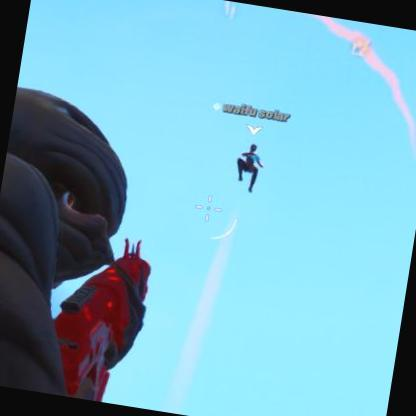person: (232, 148, 266, 194)
